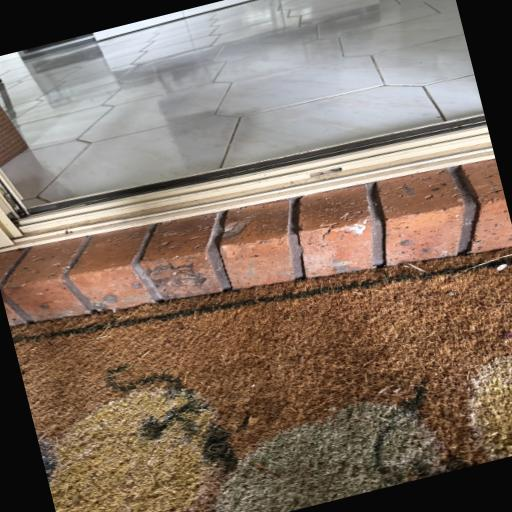step: (6, 115, 512, 321)
